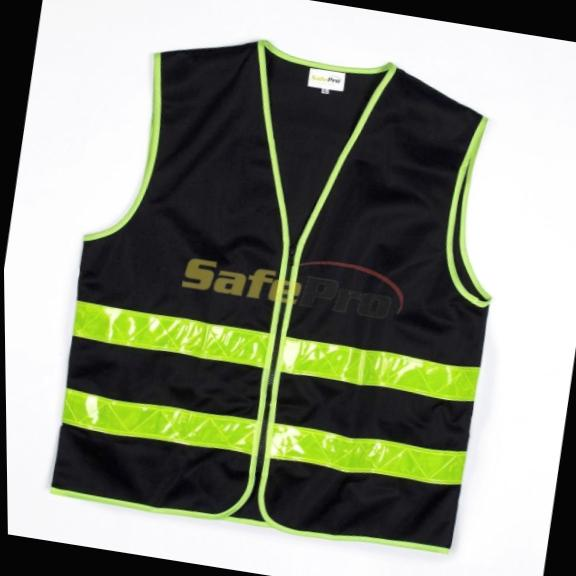safety_vest: (38, 14, 530, 556)
